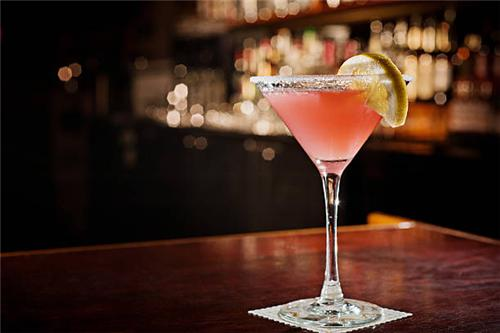alcohol: (252, 76, 390, 329)
